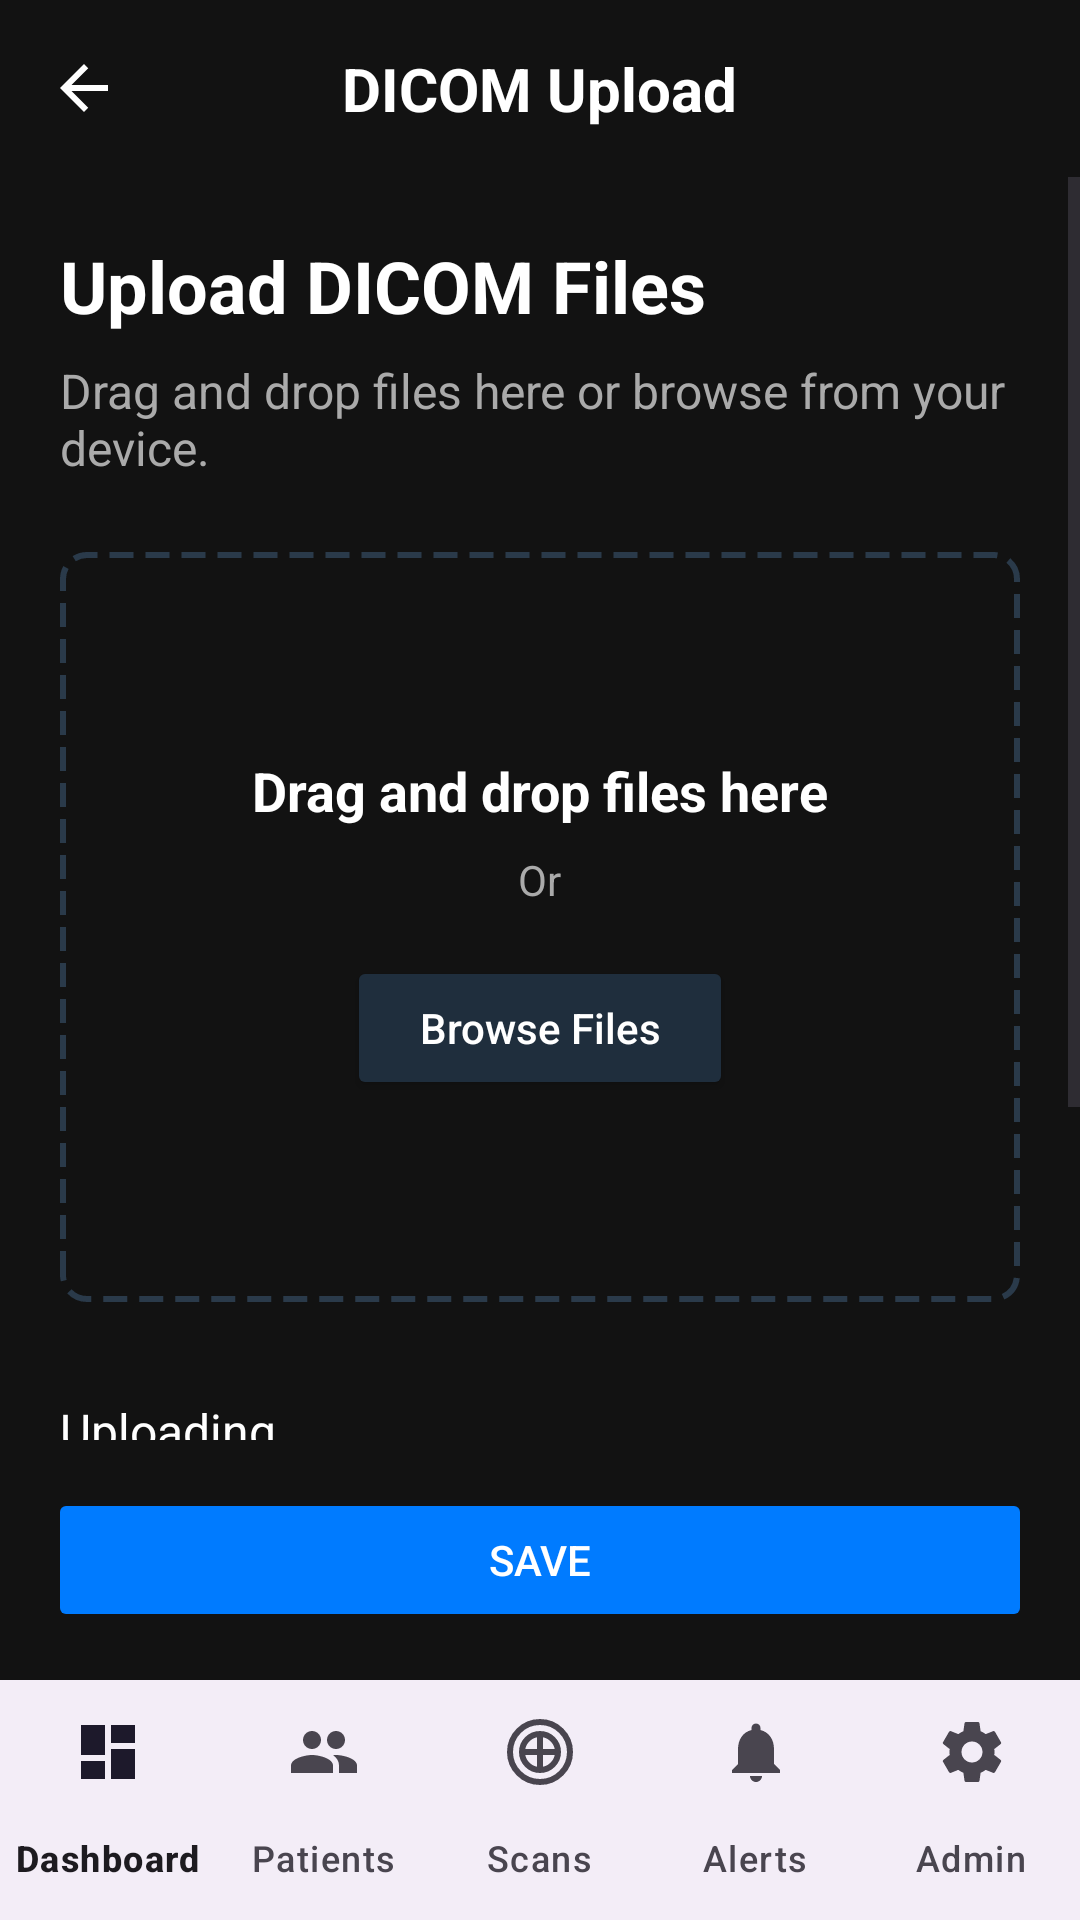

Locate icon controls on the screen. Image size 1080×1920, boxes as bbox=(x1, y1, x2, y2).
arrow back: bbox=(60, 64, 108, 112)
